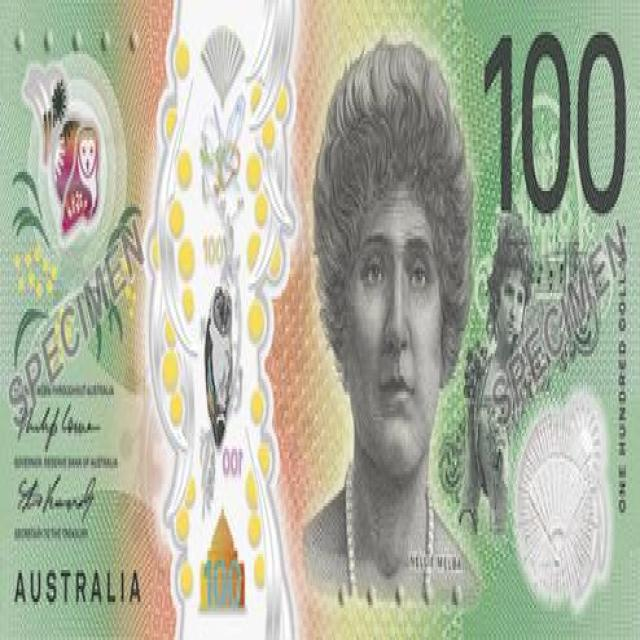banknote: (1, 0, 639, 637)
